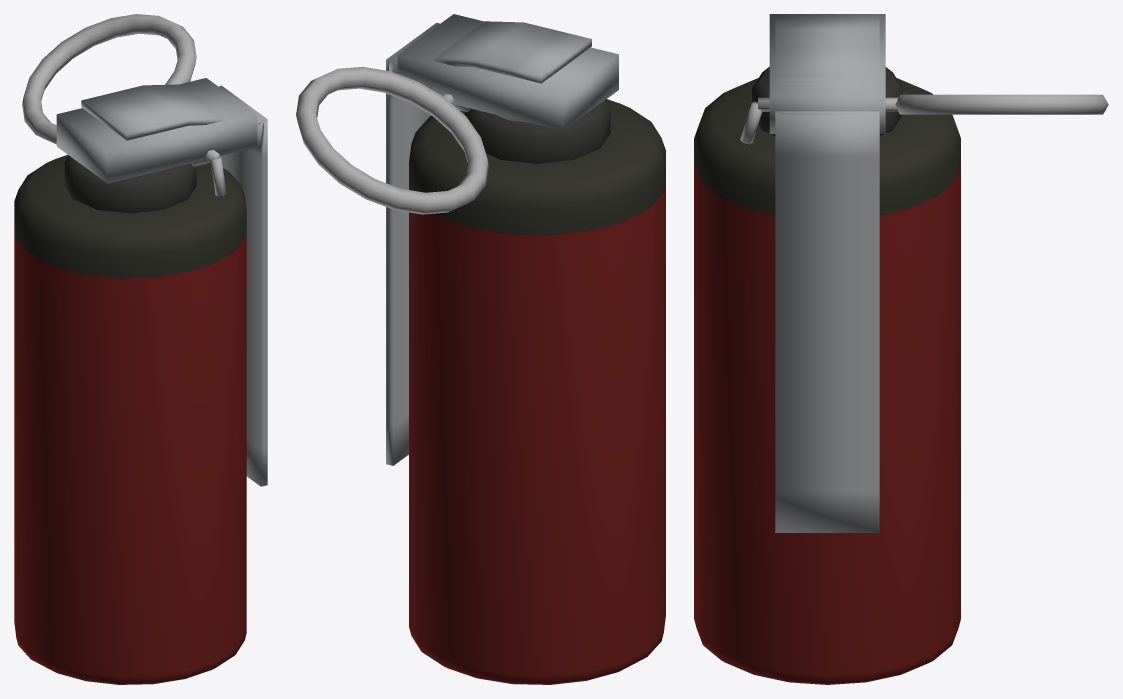
The model's file is GRN_Incendiary.fbx.
The picture shows the model from 3 angles, left to right: view 1: azimuth 30°, elevation 25°; view 2: azimuth 150°, elevation 25°; view 3: azimuth 270°, elevation 25°; orthographic projection. The views are drawn at different scales.
Parts seen in each view (by area): view 1: Incendiary_Body, Incendiary_Spoon, Incendiary_Pin; view 2: Incendiary_Body, Incendiary_Spoon, Incendiary_Pin; view 3: Incendiary_Body, Incendiary_Spoon, Incendiary_Pin.
Part boxes in pixels (box(x1,y1,x2,y2)): Incendiary_Body: box(14, 78, 257, 684); Incendiary_Spoon: box(81, 84, 267, 486); Incendiary_Pin: box(22, 14, 226, 196); Incendiary_Body: box(397, 14, 665, 684); Incendiary_Spoon: box(386, 21, 591, 465); Incendiary_Pin: box(296, 66, 488, 214); Incendiary_Body: box(694, 14, 960, 684); Incendiary_Spoon: box(775, 14, 879, 532); Incendiary_Pin: box(740, 94, 1108, 144).
Bounding box in the file's own units: 0.0523 × 0.1152 × 0.0715.
